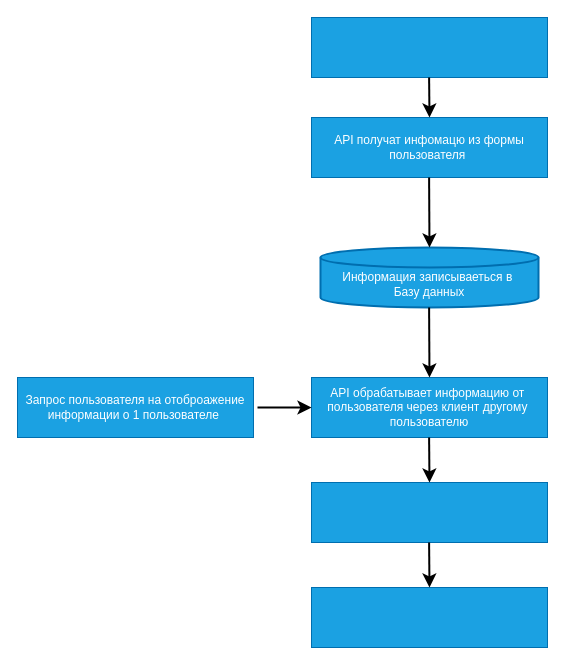
Image size: 565x665. Some labels were removed from this diagram. Here are the shapes that lost their labels. From the top down, the box of each, then its label:
(310, 16, 548, 78): Форма пользователя
(310, 482, 548, 542): Информация внедряеться в DOM обьект
